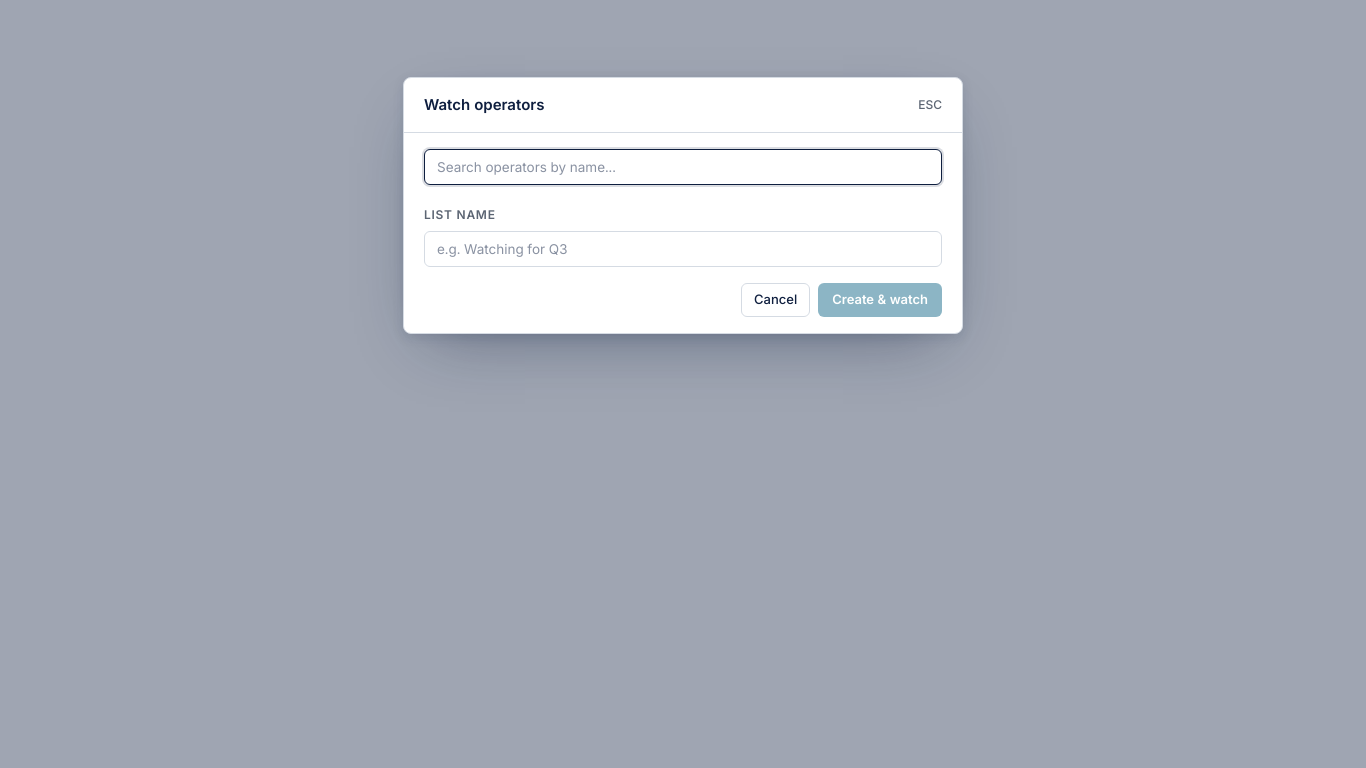
Scenario: WatchOperatorsModal › surfaces a partial-pin failure instead of silently navigating away, and links to the already-created list
Type "acme" into the search field with placeholder "Search operators by name...". click: (683, 167)
box: [424,149,942,185]
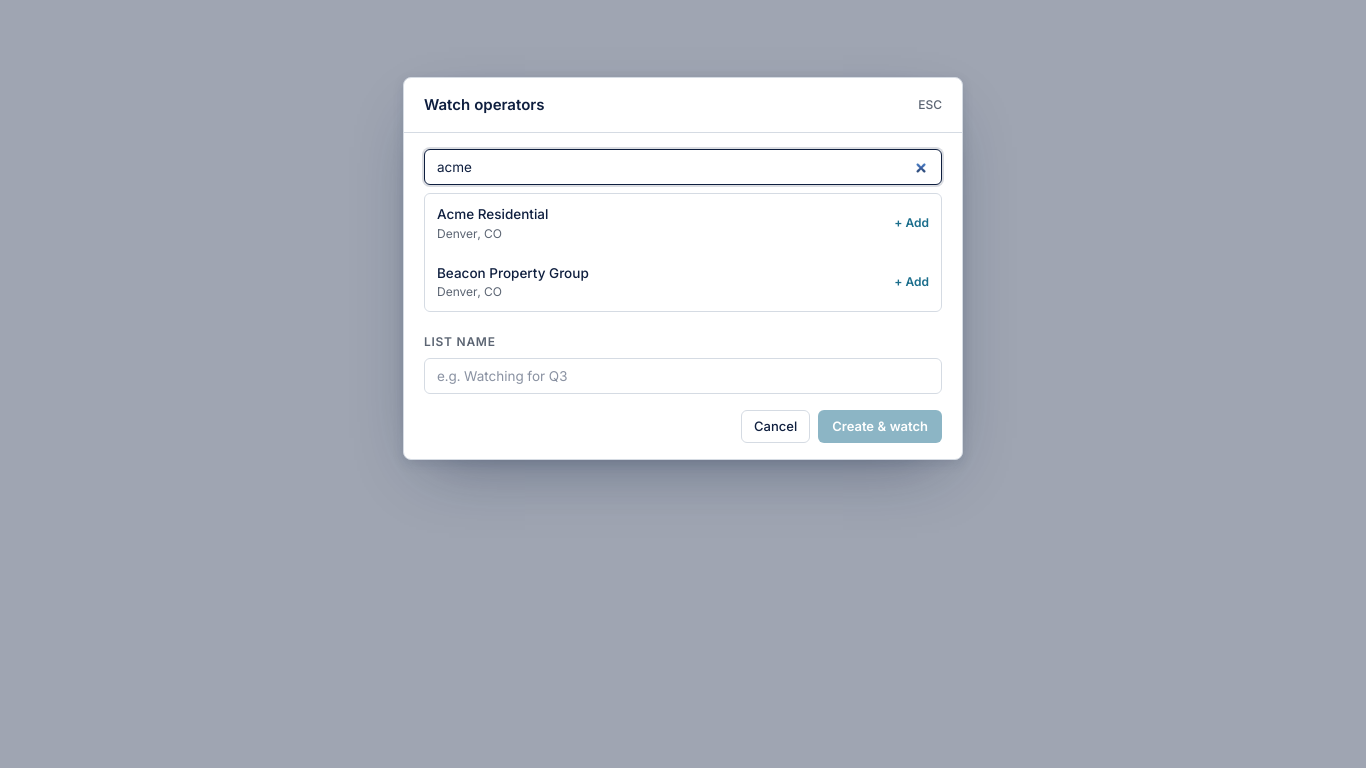
Check: the text "Acme Residential" is shown, box [437,206,548,222]
Click the option "Acme Residential Denver, CO + Add". click: (493, 214)
box: [425,194,941,253]
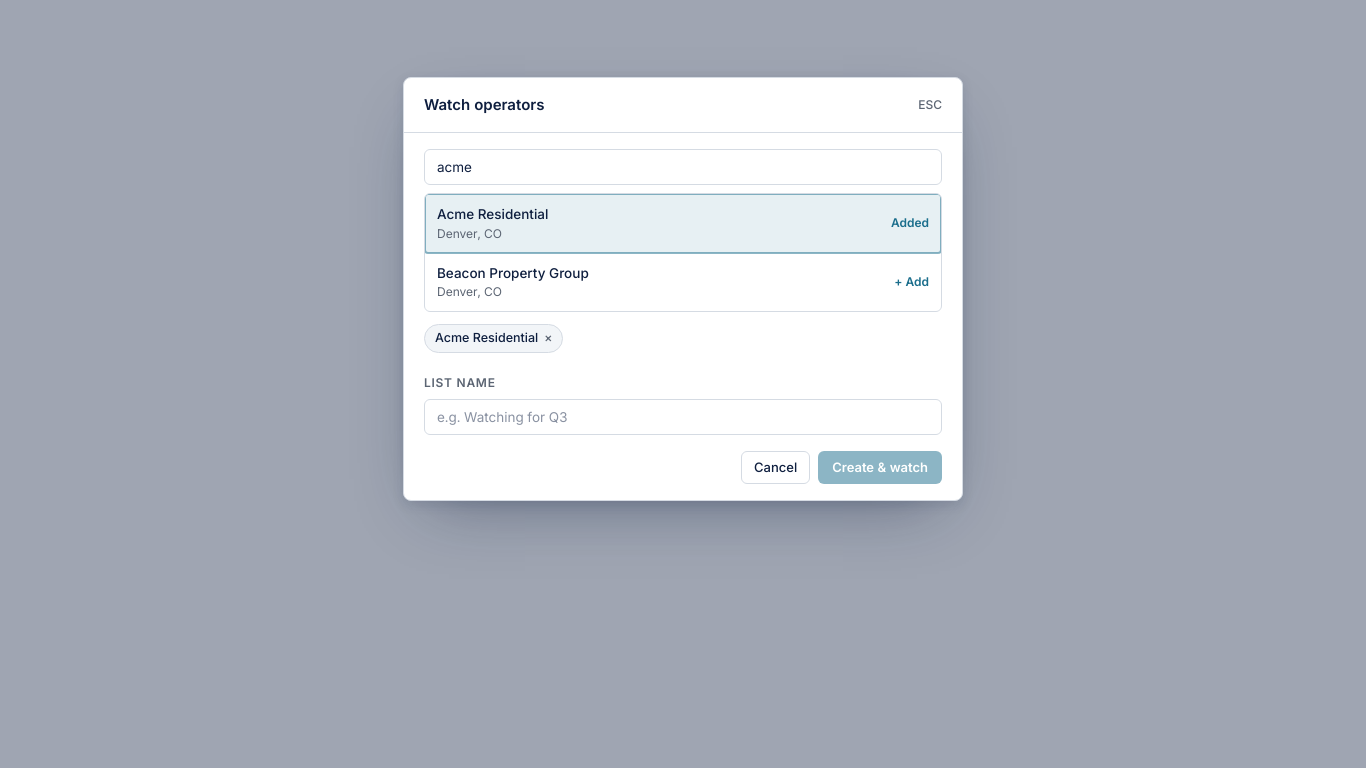
Click the option "Beacon Property Group Denver, CO + Add". click: (513, 273)
box: [425,252,941,311]
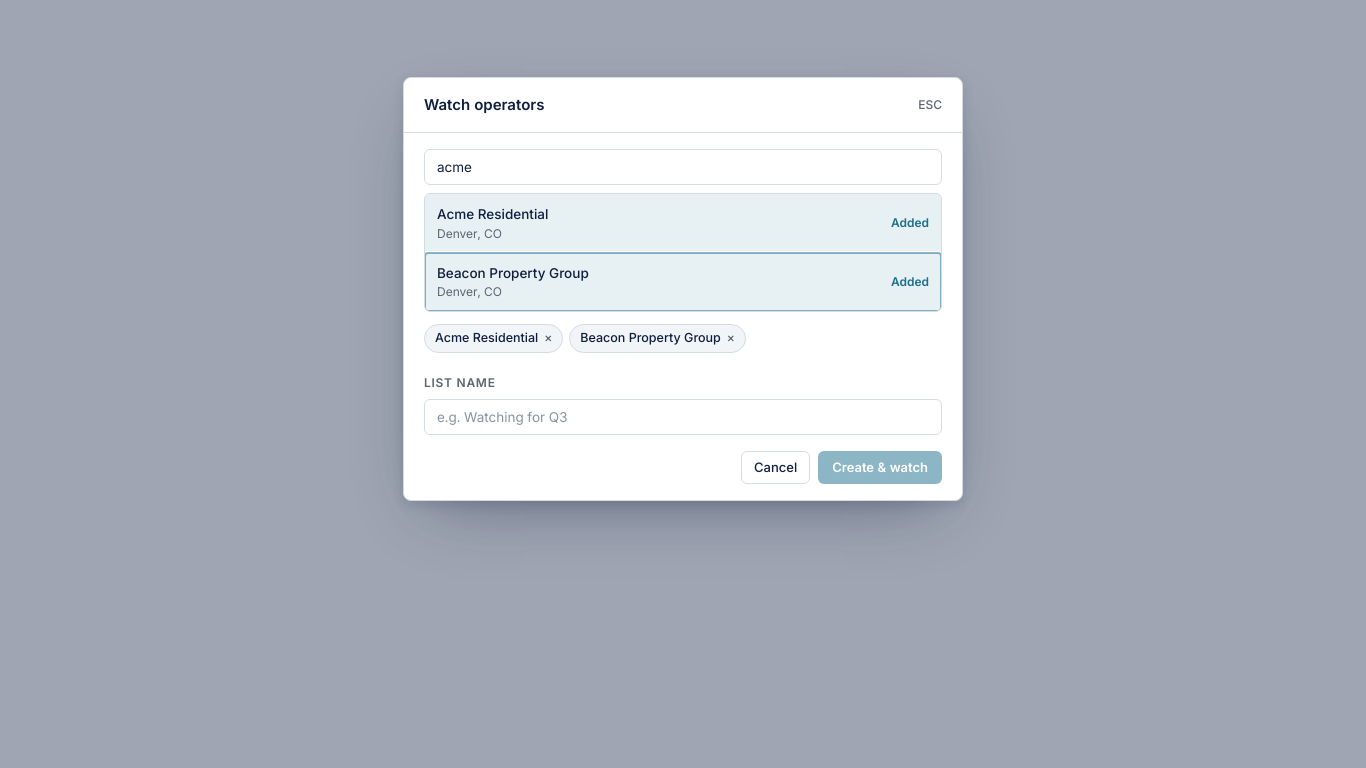
Type "My Roster" into the field labelled "List name". click: (683, 416)
box: [424,398,942,434]
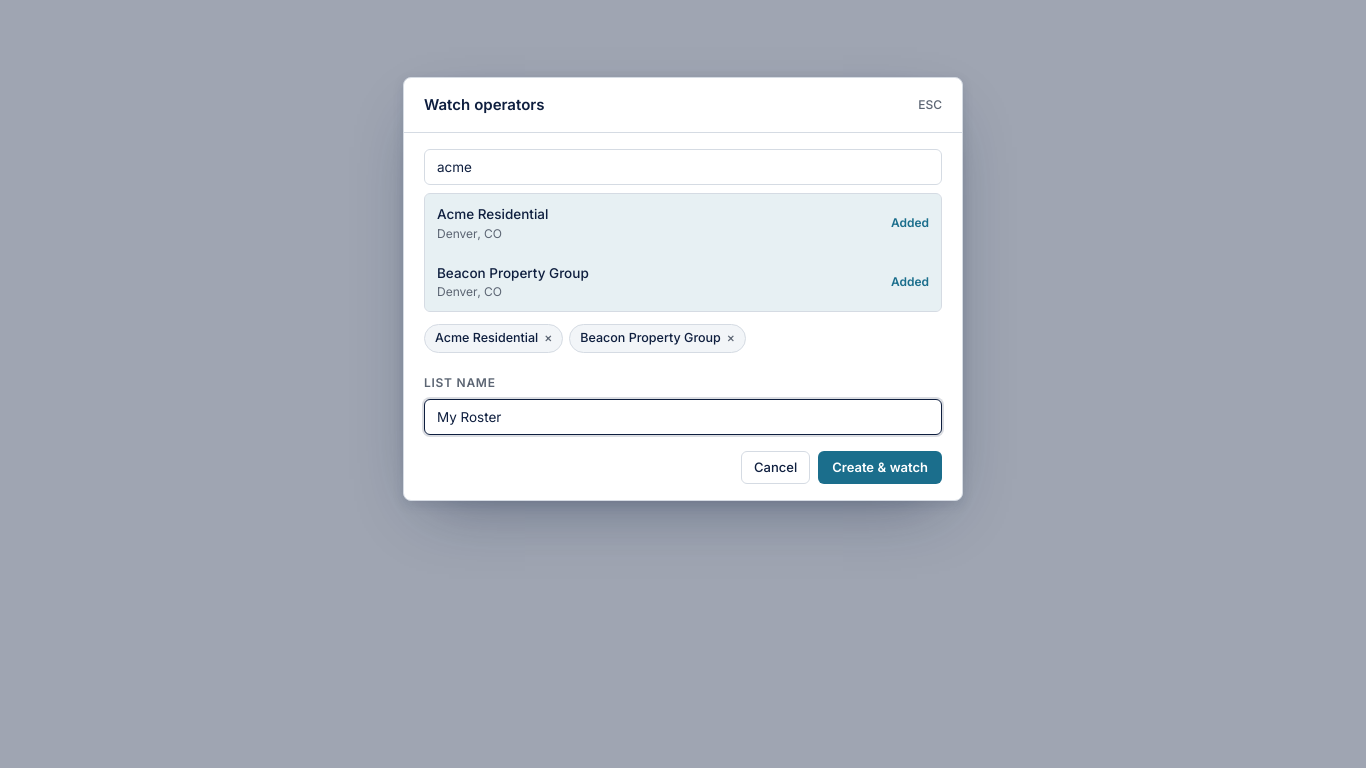
Click the button "Create & watch". click: (880, 467)
box: [818,450,942,484]
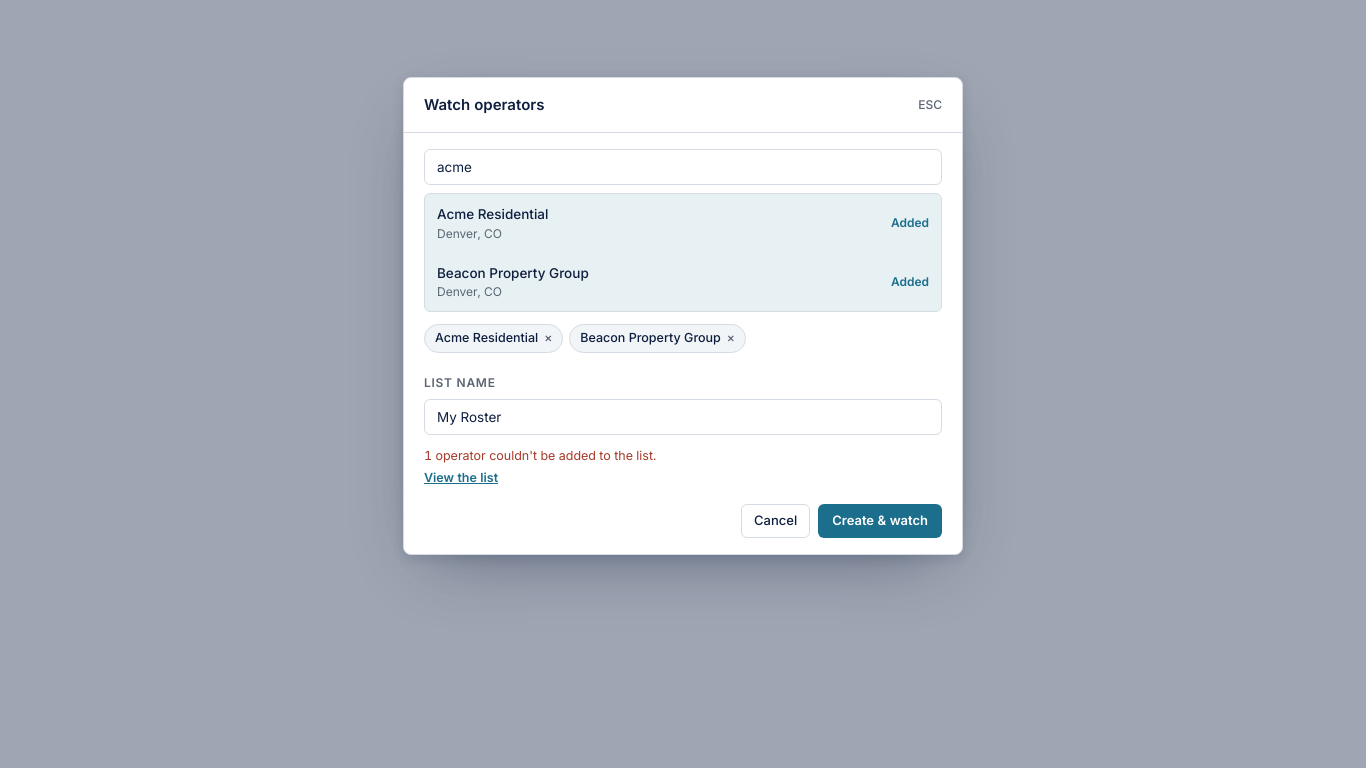
Check: the button "Create & watch" is enabled, box [818,504,942,538]
Check: the message shows "1 operator couldn't be added to the list.", box [424,448,656,462]
